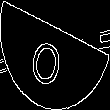O_N: (35, 23, 75, 87)
